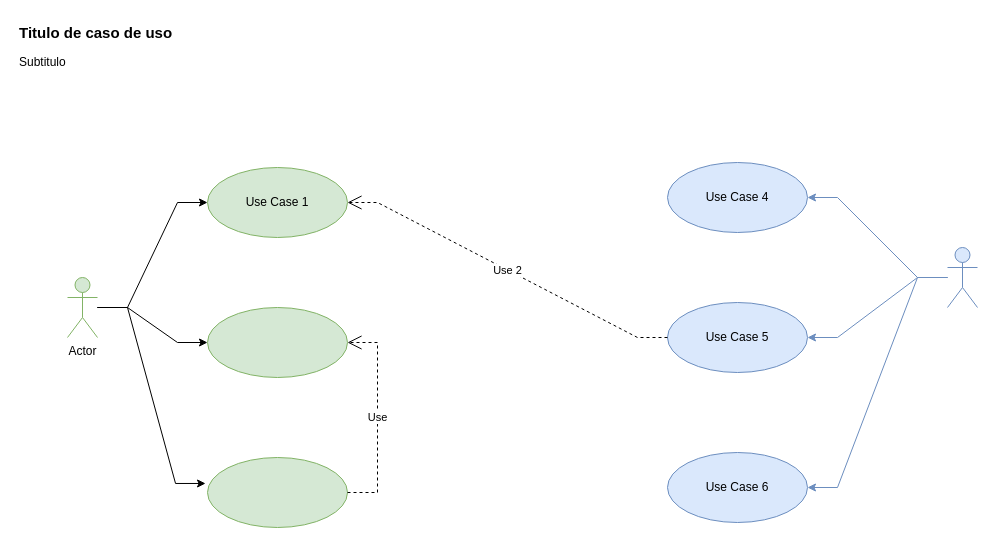
Some shapes in this 998 by 545 pixel diagram are drawn without their labels. Here are the shapes that lost their labels. From the top down, the centre of each, then its label:
At (x=962, y=277): "Actor 2".
At (x=277, y=342): "Use Case 2".
At (x=277, y=492): "Use Case 3".
